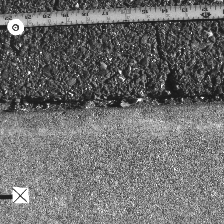circle: (7, 18, 24, 35)
crack: (1, 93, 223, 114)
square: (12, 187, 28, 203)
